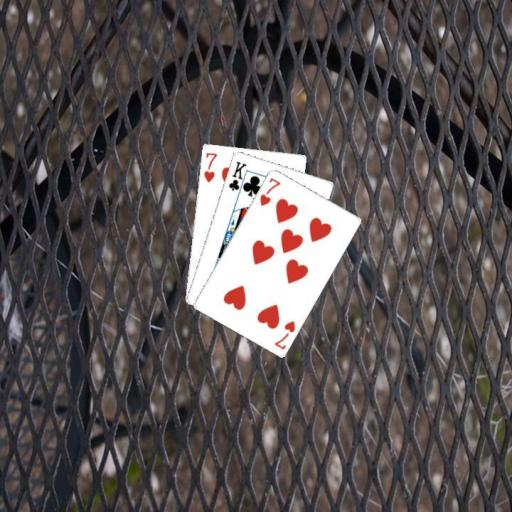7H: (257, 174, 282, 208), (271, 317, 296, 351), (201, 150, 219, 184)
KC: (226, 158, 250, 197)
